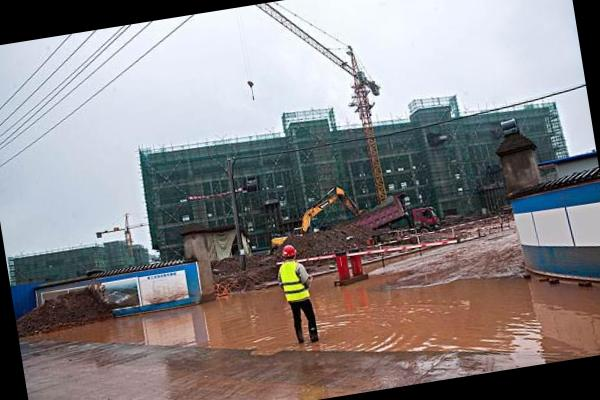Vest: (276, 258, 310, 303)
